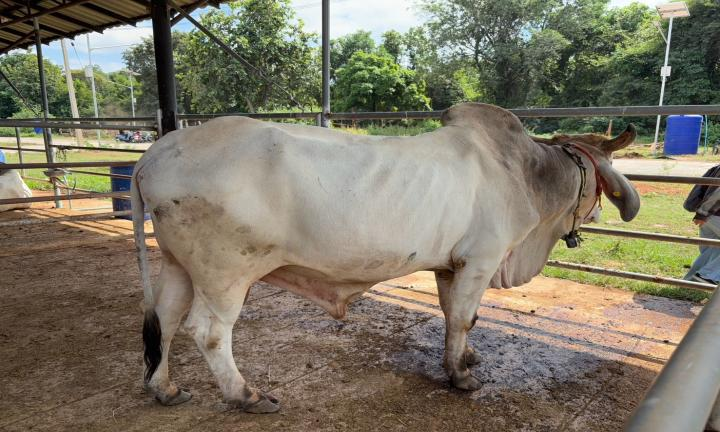Brahman: (131, 103, 639, 413)
